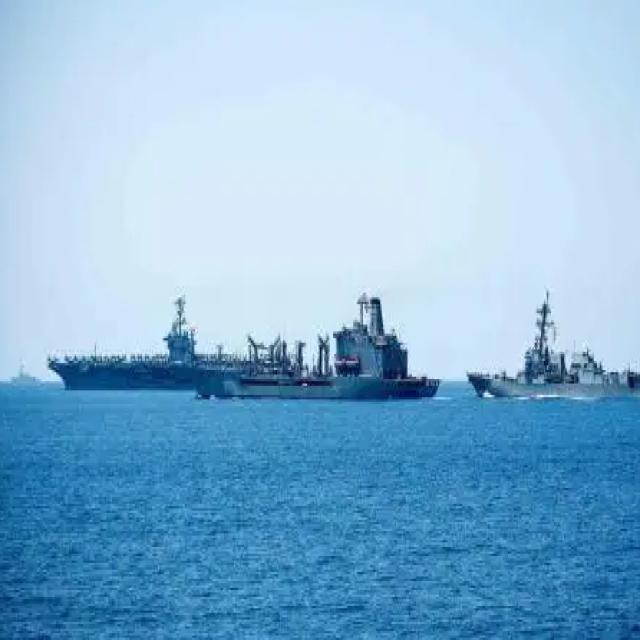navalvessels: (213, 301, 447, 426), (40, 282, 234, 392), (463, 275, 640, 395)
